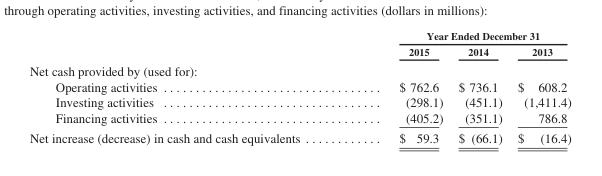table: (28, 29, 570, 145)
table column: (28, 29, 348, 145), (348, 29, 450, 145), (509, 29, 570, 145), (450, 29, 509, 145)
table column header: (28, 29, 570, 60)
table projected row header: (28, 60, 570, 78)
table row: (28, 60, 570, 78), (28, 109, 570, 127), (28, 127, 570, 145), (28, 43, 570, 60), (28, 78, 570, 94), (28, 94, 570, 109), (28, 29, 570, 43)
table spanning cell: (348, 29, 570, 43)
